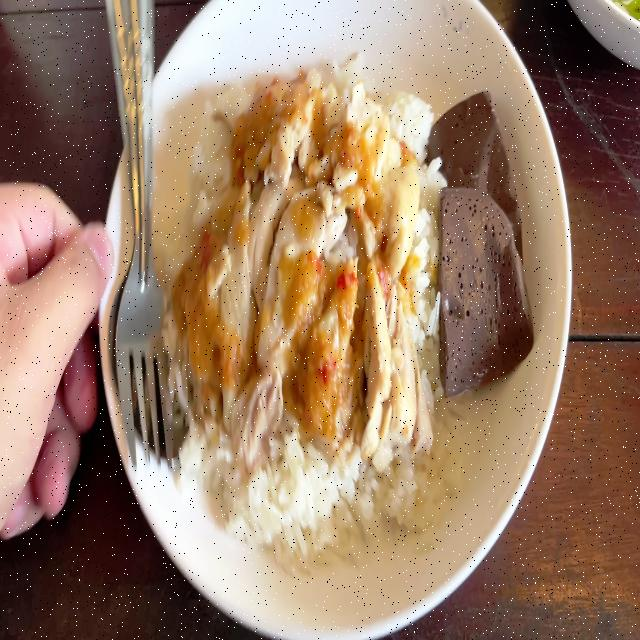boiled_chicken: (210, 107, 410, 423)
boiled_chicken_blood_jelly: (429, 94, 529, 380)
chicken_rice: (168, 64, 541, 575)
